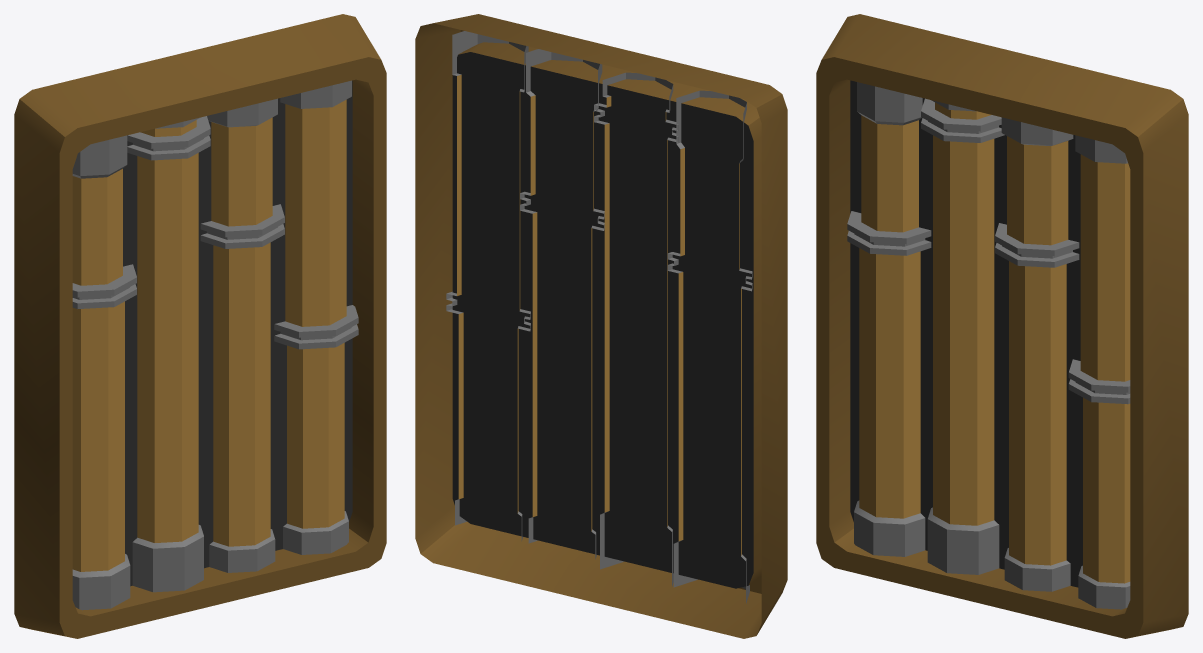
The model's file is Details_Pipes_Medium.glb.
3 views of the same model, side by side, from view 1: azimuth 30°, elevation 25°; view 2: azimuth 150°, elevation 25°; view 3: azimuth 330°, elevation 25° (orthographic).
Parts seen in each view (by area): view 1: Details_Pipes_Medium; view 2: Details_Pipes_Medium; view 3: Details_Pipes_Medium.
Boxes of the visible parts, x1=… form: Details_Pipes_Medium: x1=14, y1=14, x2=386, y2=638; Details_Pipes_Medium: x1=415, y1=14, x2=787, y2=638; Details_Pipes_Medium: x1=816, y1=14, x2=1188, y2=638.
Bounding box in the file's own units: 0.1749 × 0.2604 × 0.0317.
